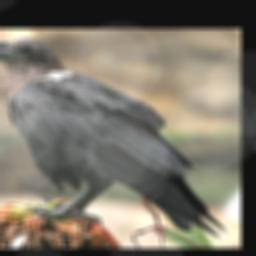Crow: (0, 36, 228, 238)
